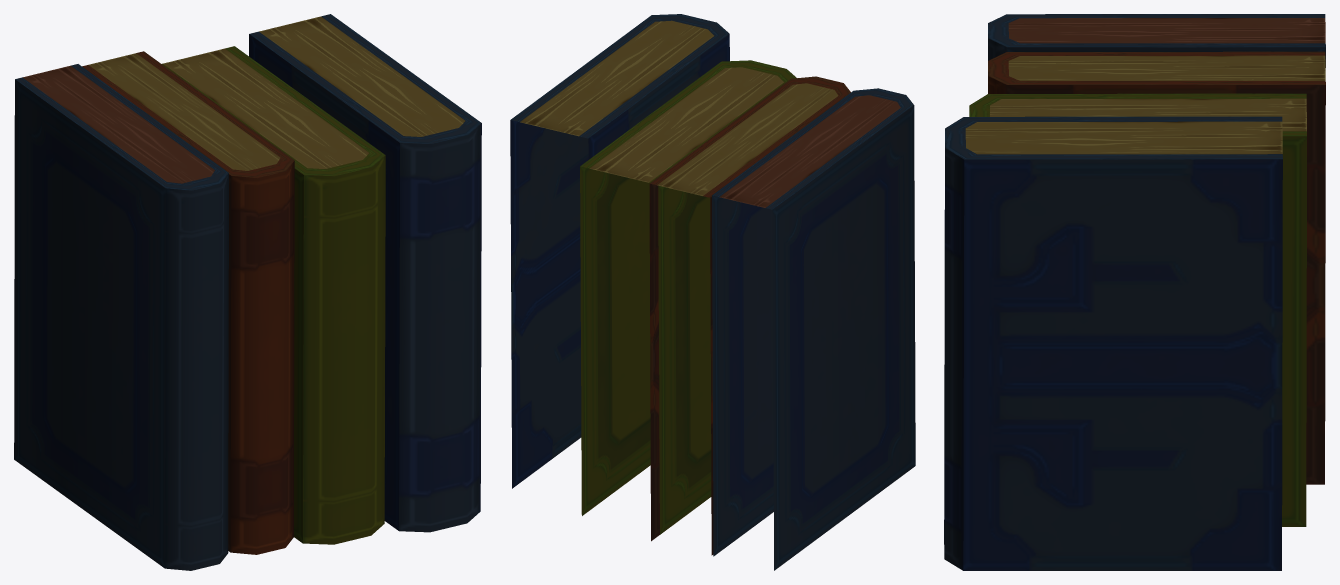
The model's file is bookgroup-small-2.glb.
3 renders of one model, left to right at view 1: azimuth 30°, elevation 25°; view 2: azimuth 150°, elevation 25°; view 3: azimuth 270°, elevation 25°, orthographic. The views are drawn at different scales.
Visible parts, largest first — view 1: BookGroup_Small_2; view 2: BookGroup_Small_2; view 3: BookGroup_Small_2.
Part boxes in pixels (left/top/right/bottom): BookGroup_Small_2: left=14, top=14, right=481, bottom=570; BookGroup_Small_2: left=510, top=14, right=915, bottom=570; BookGroup_Small_2: left=944, top=14, right=1325, bottom=570.
Size of the model in its own units: 0.2276 by 0.2831 by 0.2372.
1 material, 1 textured.
